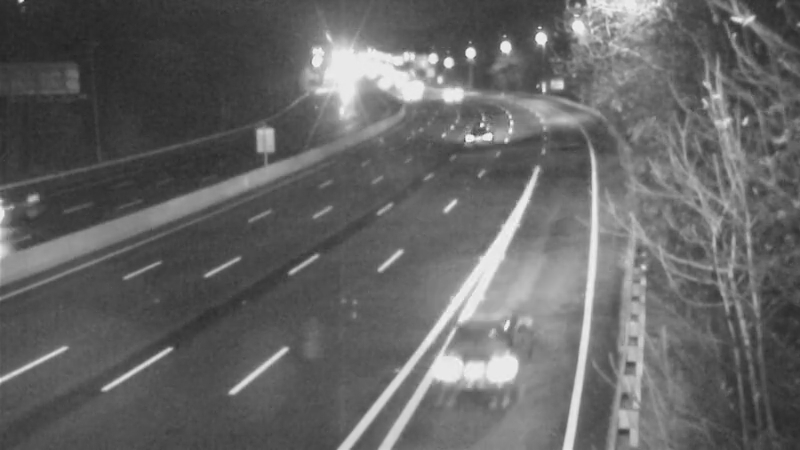vehicle: (421, 313, 531, 423), (1, 176, 66, 256), (429, 70, 479, 120), (453, 102, 503, 152)
